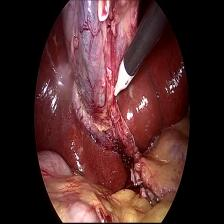Hook: (111, 57, 137, 103)
